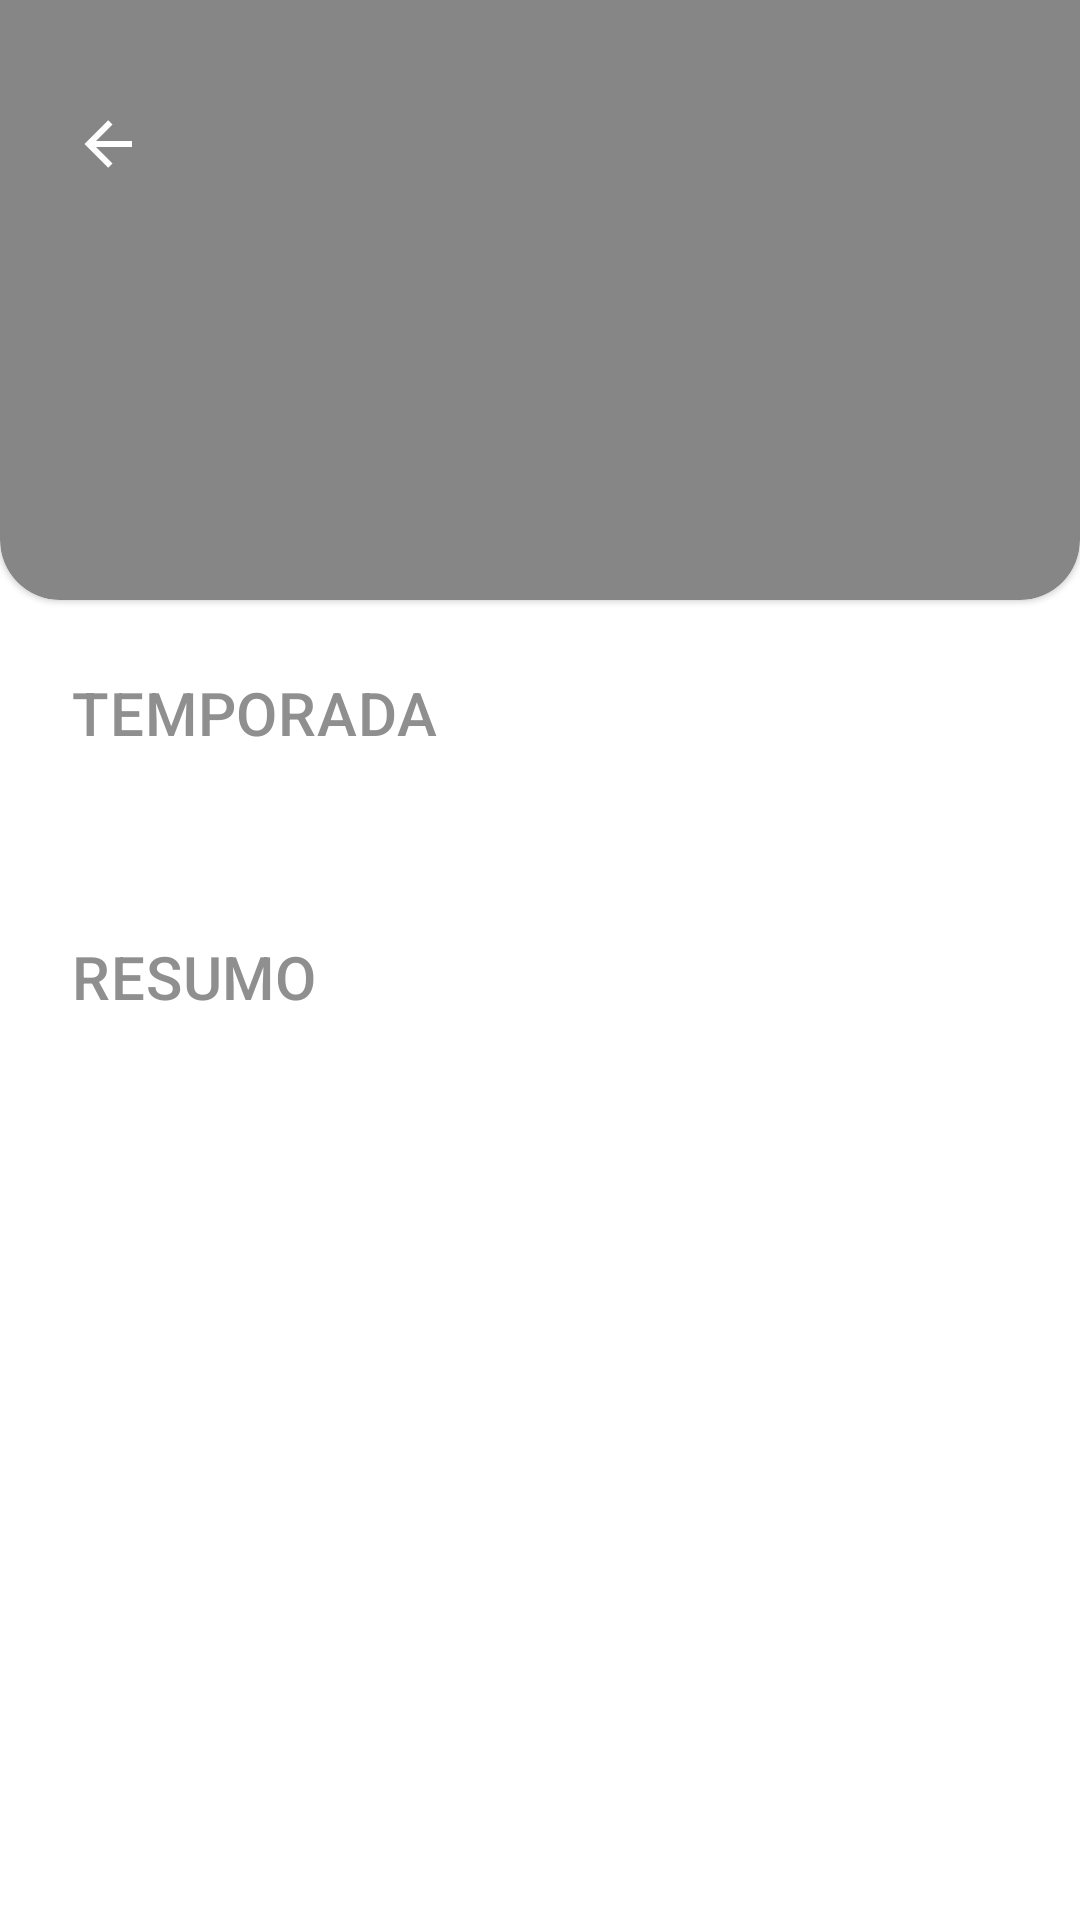

Icons on this 1080 x 1920 Android screen, each with its box as (x1, y1, x2, y2):
Voltar: (85, 120, 132, 168)
